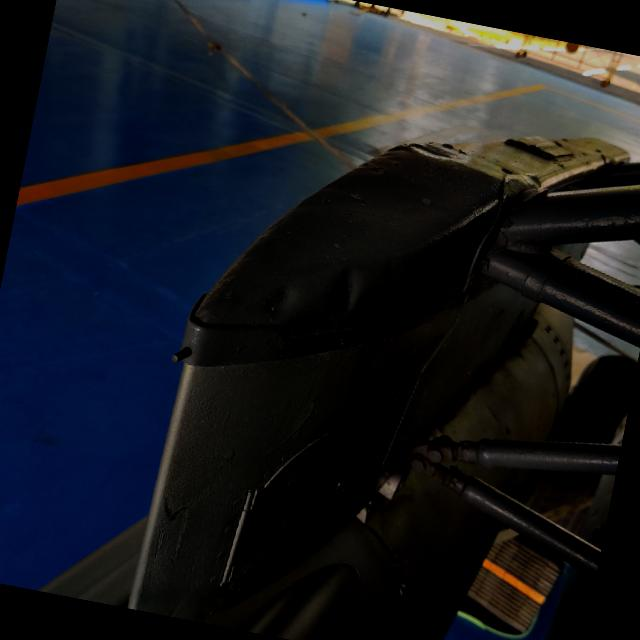dent: (322, 256, 381, 334), (249, 268, 310, 336)
